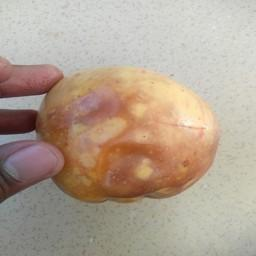Bad_apple: (37, 59, 218, 206)
